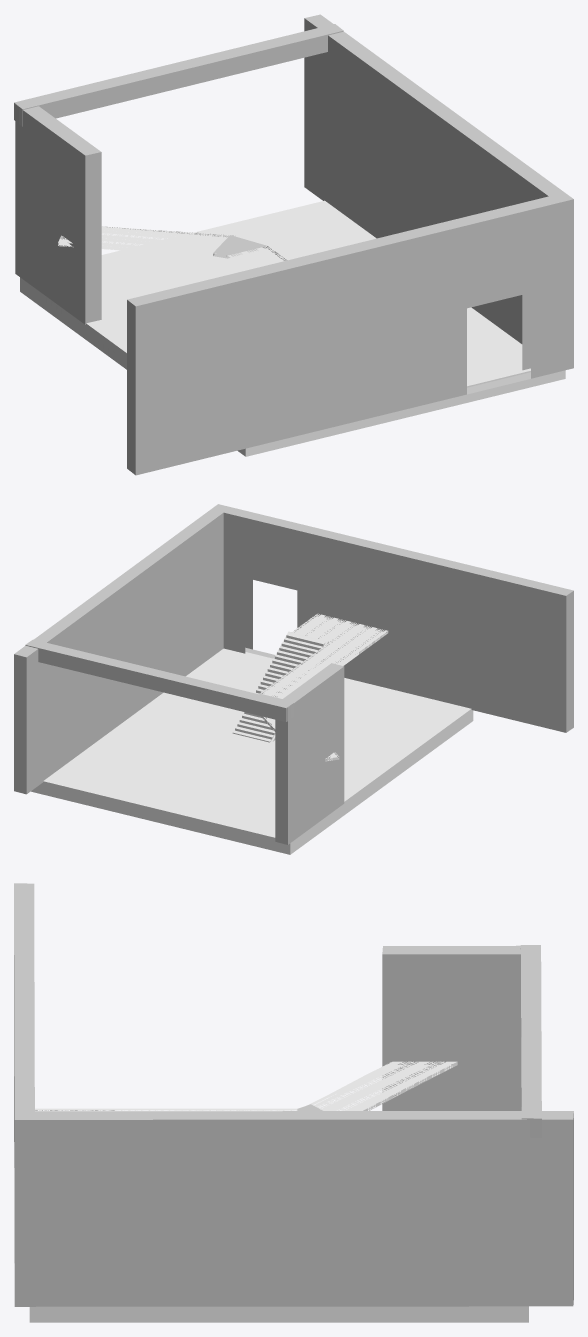
File: Enviro2_LD1_Habillage_Mod.fbx
The picture shows the model from 3 angles, top to bottom: view 1: azimuth 30°, elevation 25°; view 2: azimuth 150°, elevation 25°; view 3: azimuth 270°, elevation 25°; orthographic projection. The views are drawn at different scales.
Parts seen in each view (by area): view 1: Wall4, Wall4 (2), Ground1, Wall3, Wall4 (4), Wall2 (1), Wall1 (1), Wall1 (2); view 2: Wall4, Ground1, Wall4 (2), Wall3, Wall4 (4), Wall1 (1), Stairs; view 3: Wall4 (2), Wall3, Ground1, Wall4, Wall4 (4), Wall2 (1), Wall1 (1).
Part boxes in pixels (x1,y1,x2,y2): Wall4: [127, 193, 572, 475]; Wall4 (2): [304, 14, 573, 368]; Ground1: [20, 200, 565, 456]; Wall3: [15, 104, 101, 324]; Wall4 (4): [14, 24, 343, 126]; Wall2 (1): [58, 226, 234, 257]; Wall1 (1): [228, 246, 286, 270]; Wall1 (2): [213, 235, 267, 258]; Wall4: [212, 504, 573, 732]; Ground1: [31, 648, 473, 854]; Wall4 (2): [14, 504, 229, 794]; Wall3: [275, 663, 344, 844]; Wall4 (4): [25, 639, 293, 721]; Wall1 (1): [259, 613, 388, 698]; Stairs: [232, 633, 325, 742]; Wall4 (2): [14, 1111, 573, 1306]; Wall3: [382, 945, 521, 1110]; Ground1: [29, 1306, 528, 1322]; Wall4: [14, 883, 34, 1262]; Wall4 (4): [520, 945, 541, 1137]; Wall2 (1): [308, 1061, 457, 1110]; Wall1 (1): [35, 1108, 297, 1111].
Size of the model in its own units: 2761 by 1367 by 2761.
3 materials, 1 textured.
